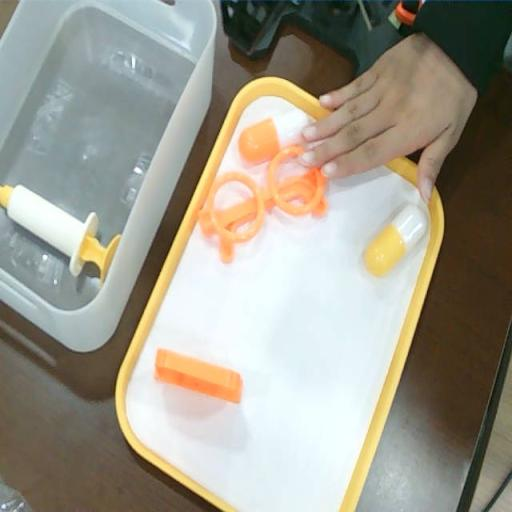hospital: (297, 46, 445, 205)
